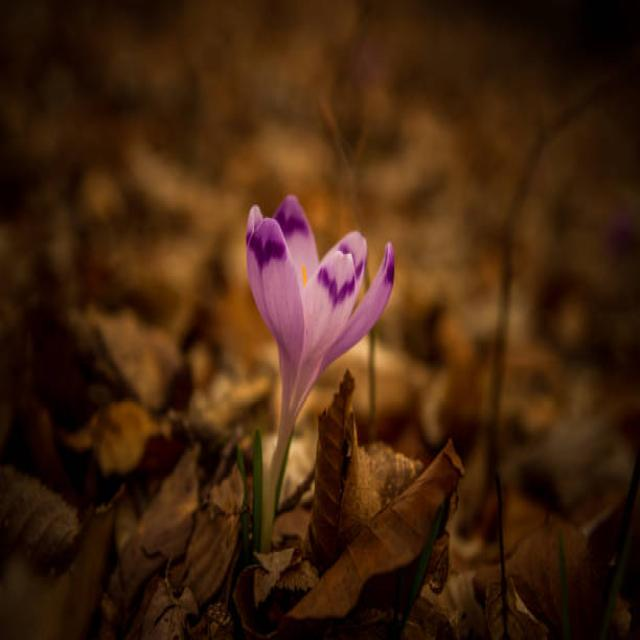saffron open: (248, 197, 394, 551)
